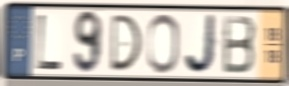9: (72, 8, 105, 77)
B: (221, 14, 258, 76)
D: (108, 13, 143, 74)
J: (183, 12, 219, 76)
L: (35, 12, 65, 72)
O: (145, 12, 181, 76)
